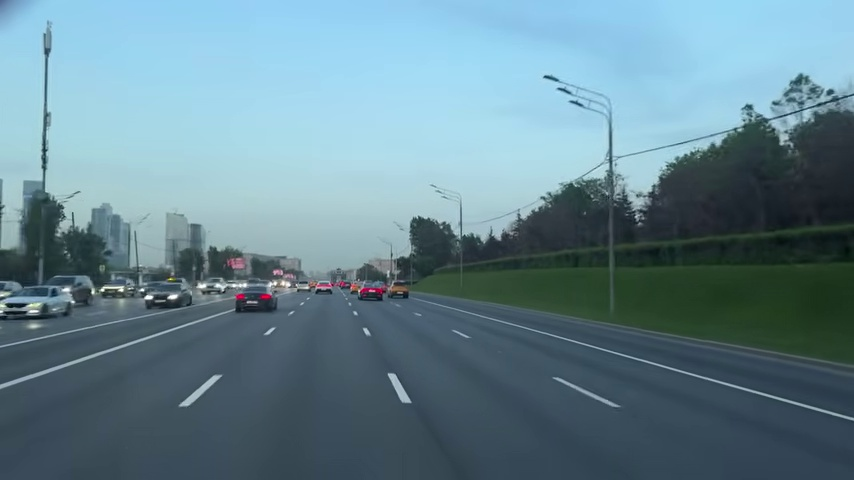apagada: (542, 72, 582, 112), (184, 372, 223, 409), (541, 71, 572, 102), (541, 70, 566, 93)
